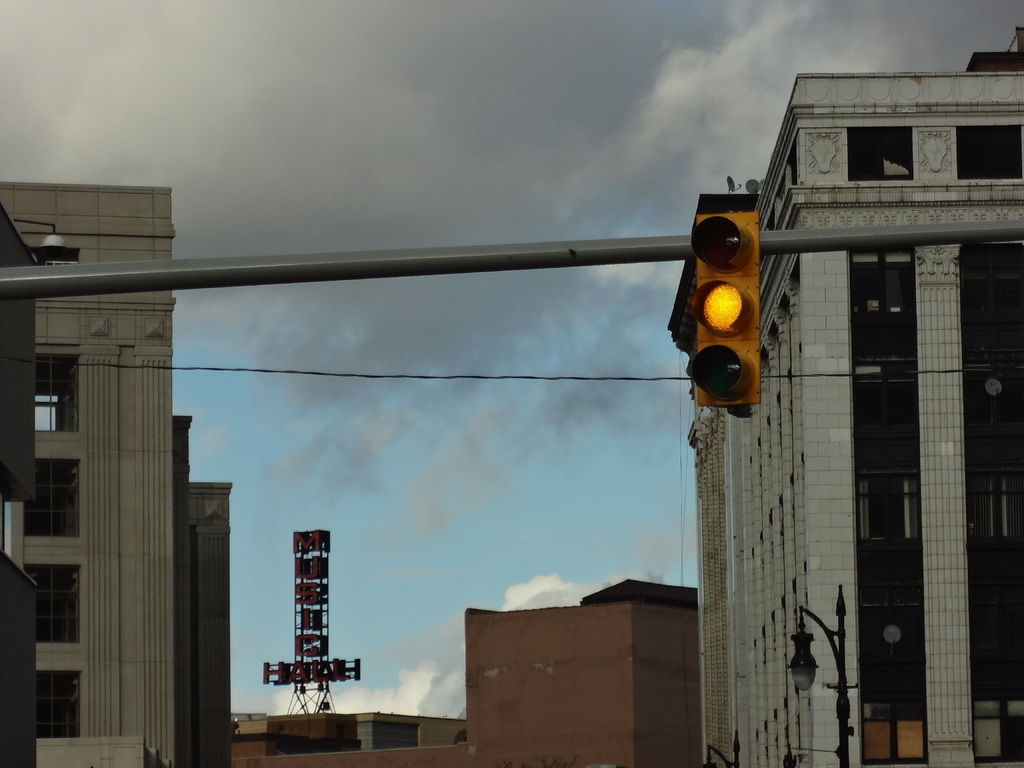yellow_light: (693, 280, 754, 333)
